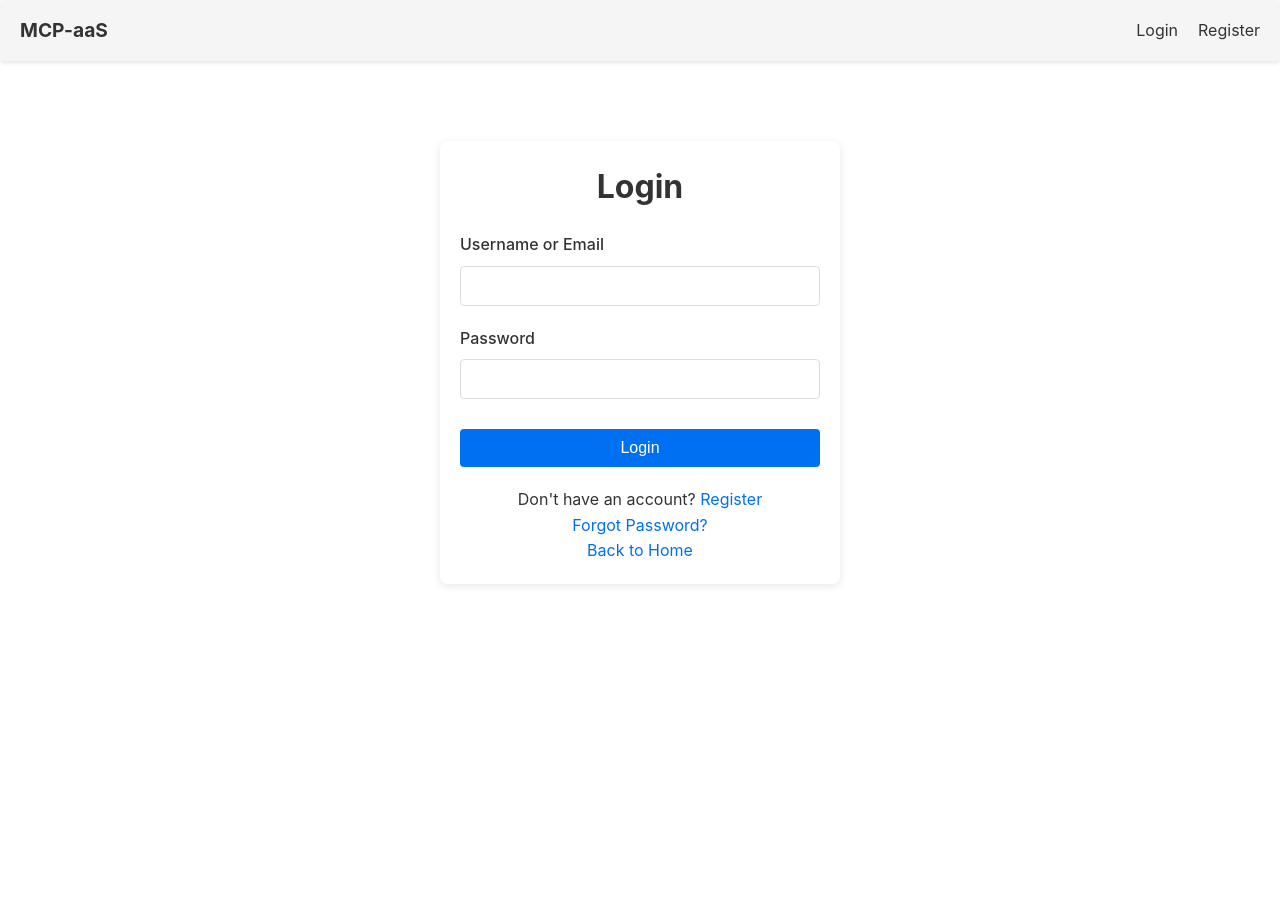
Test: Login Component › should show error message on login failure
Type "testuser" into the field labelled "Username or Email" at [640, 286], box [460, 266, 820, 306]
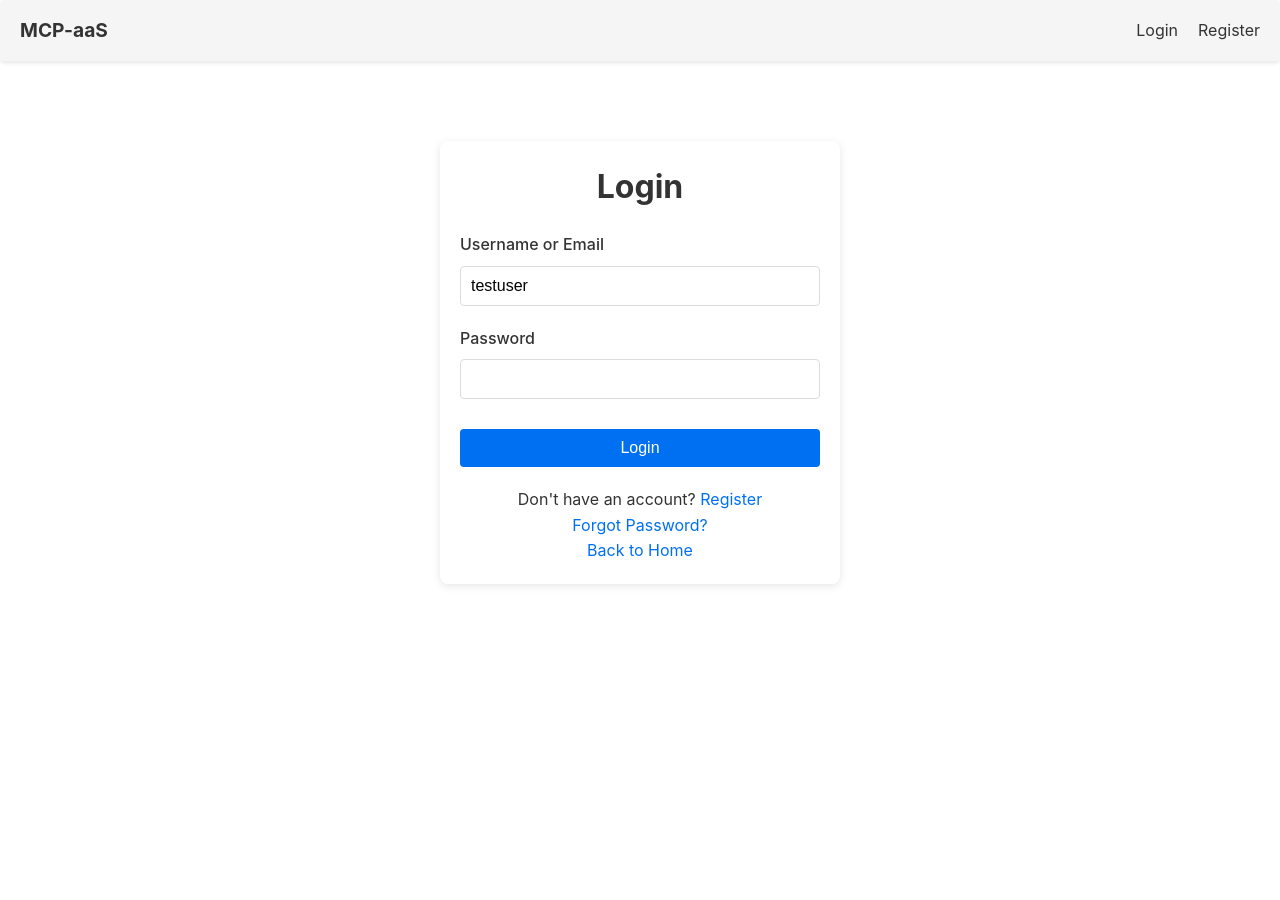
Type "wrongpassword" into the password field labelled "Password" at [640, 379], box [460, 359, 820, 399]
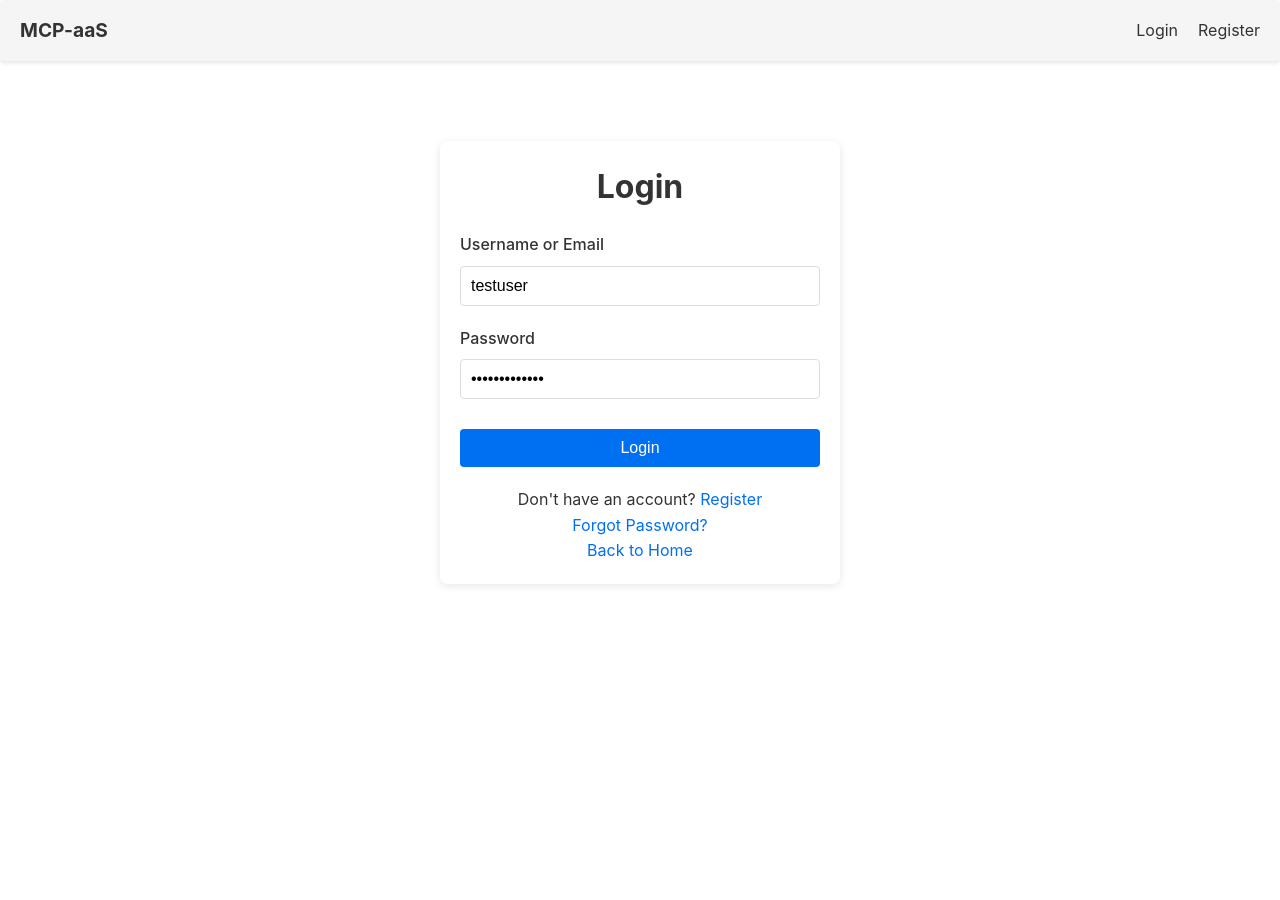
Click the button "Login" at [640, 448], box [460, 429, 820, 467]
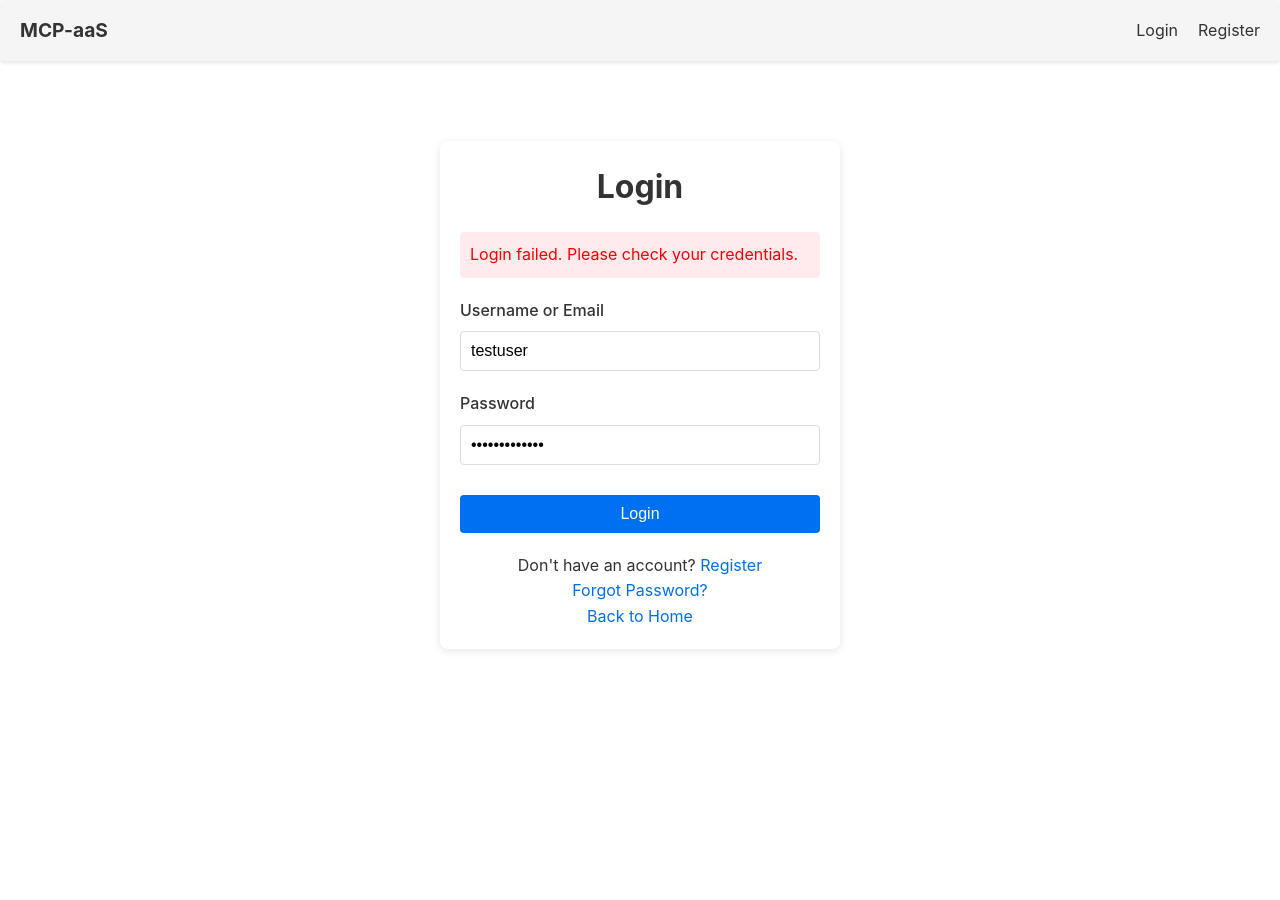
Now the text "Login failed. Please check your credentials." is shown, box [460, 232, 820, 278]
